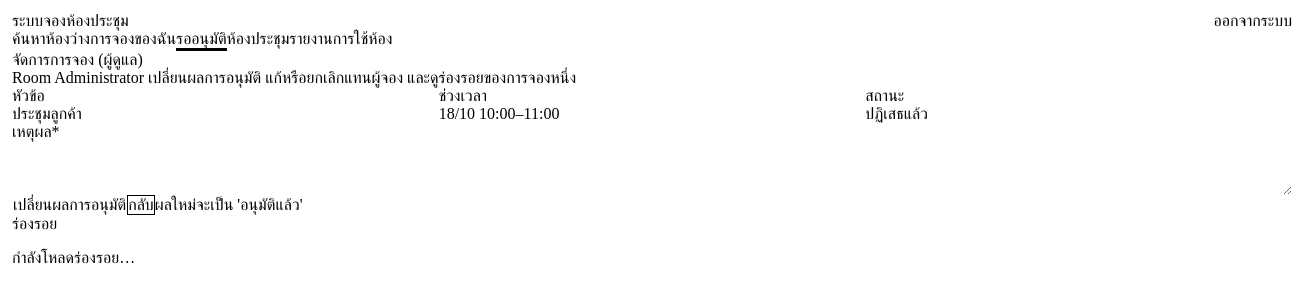
Test: FE-mrr-008 change an approval decision page (UI-mrr-010) › AC-mrr-035 rejected → approved with ปฏิเสธผิดคน a minute before the start goes through
expect the text "ผลใหม่จะเป็น 'อนุมัติแล้ว'" is shown: met, box x1=155 y1=196 x2=302 y2=214
Type "ปฏิเสธผิดคน" into the text box with test id "ui-mrr-010-ent-010-reason" at (652, 168), box x1=12 y1=141 x2=1292 y2=195
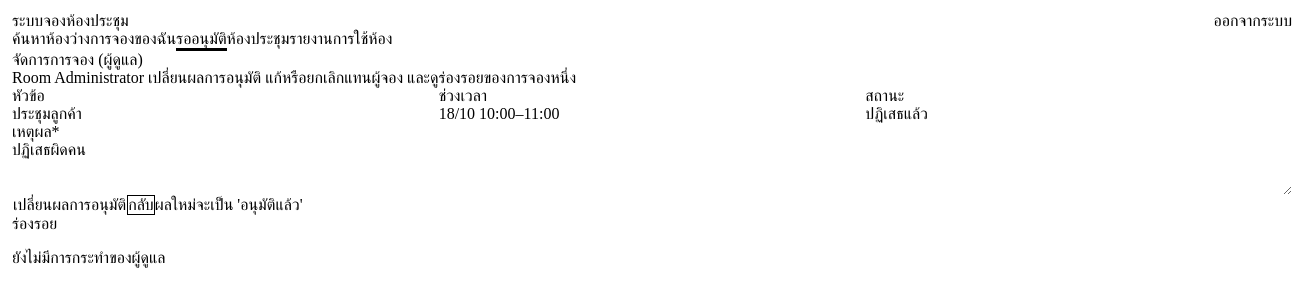
Click the button with test id "ui-mrr-010-change-decision" at (70, 205), box x1=12 y1=195 x2=127 y2=215
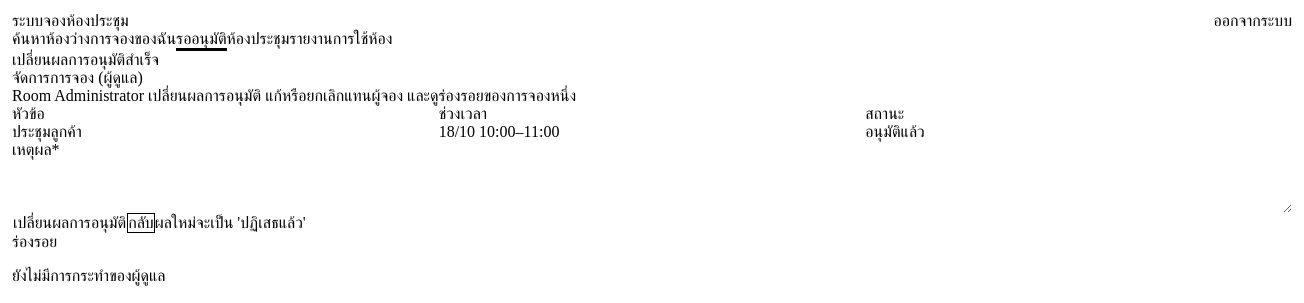
expect the message reads "เปลี่ยนผลการอนุมัติสำเร็จ": met, box x1=12 y1=51 x2=159 y2=68
